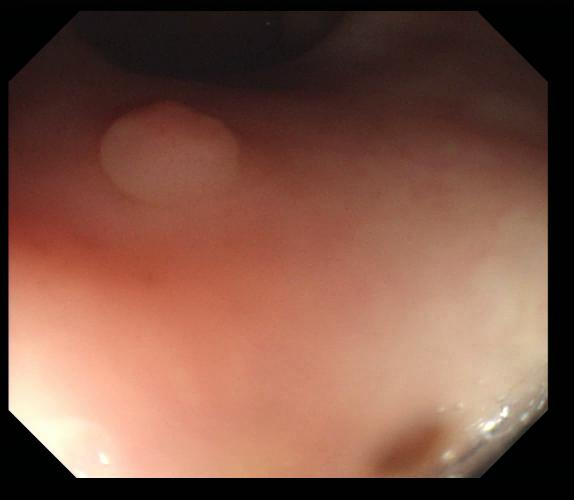polyp: (98, 102, 242, 216)
